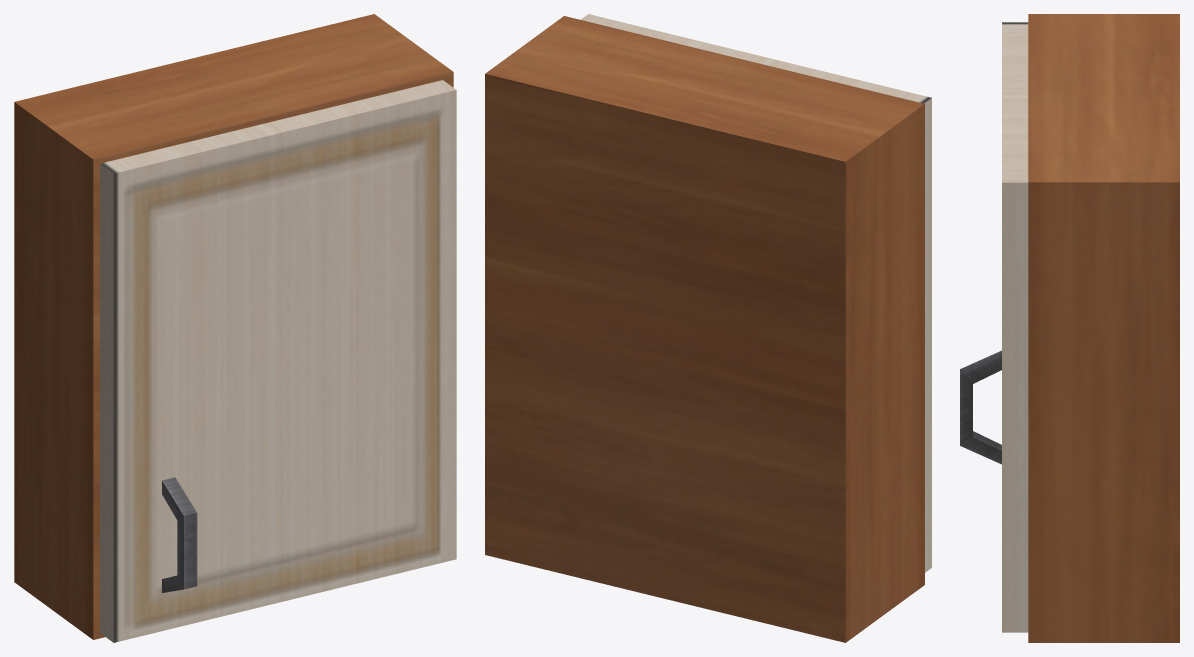
Rendered from Cupboard_2_2.fbx.
3 views of the same model, side by side, from view 1: azimuth 30°, elevation 25°; view 2: azimuth 150°, elevation 25°; view 3: azimuth 270°, elevation 25° (orthographic). The views are drawn at different scales.
Visible parts, largest first — view 1: polySurface1495; view 2: polySurface1495; view 3: polySurface1495.
Part boxes in pixels (x1,y1,x2,y2): polySurface1495: (14, 14, 456, 642); polySurface1495: (485, 14, 931, 642); polySurface1495: (960, 14, 1179, 642).
Size of the model in its own units: 0.9168 by 1.17 by 0.5055.
